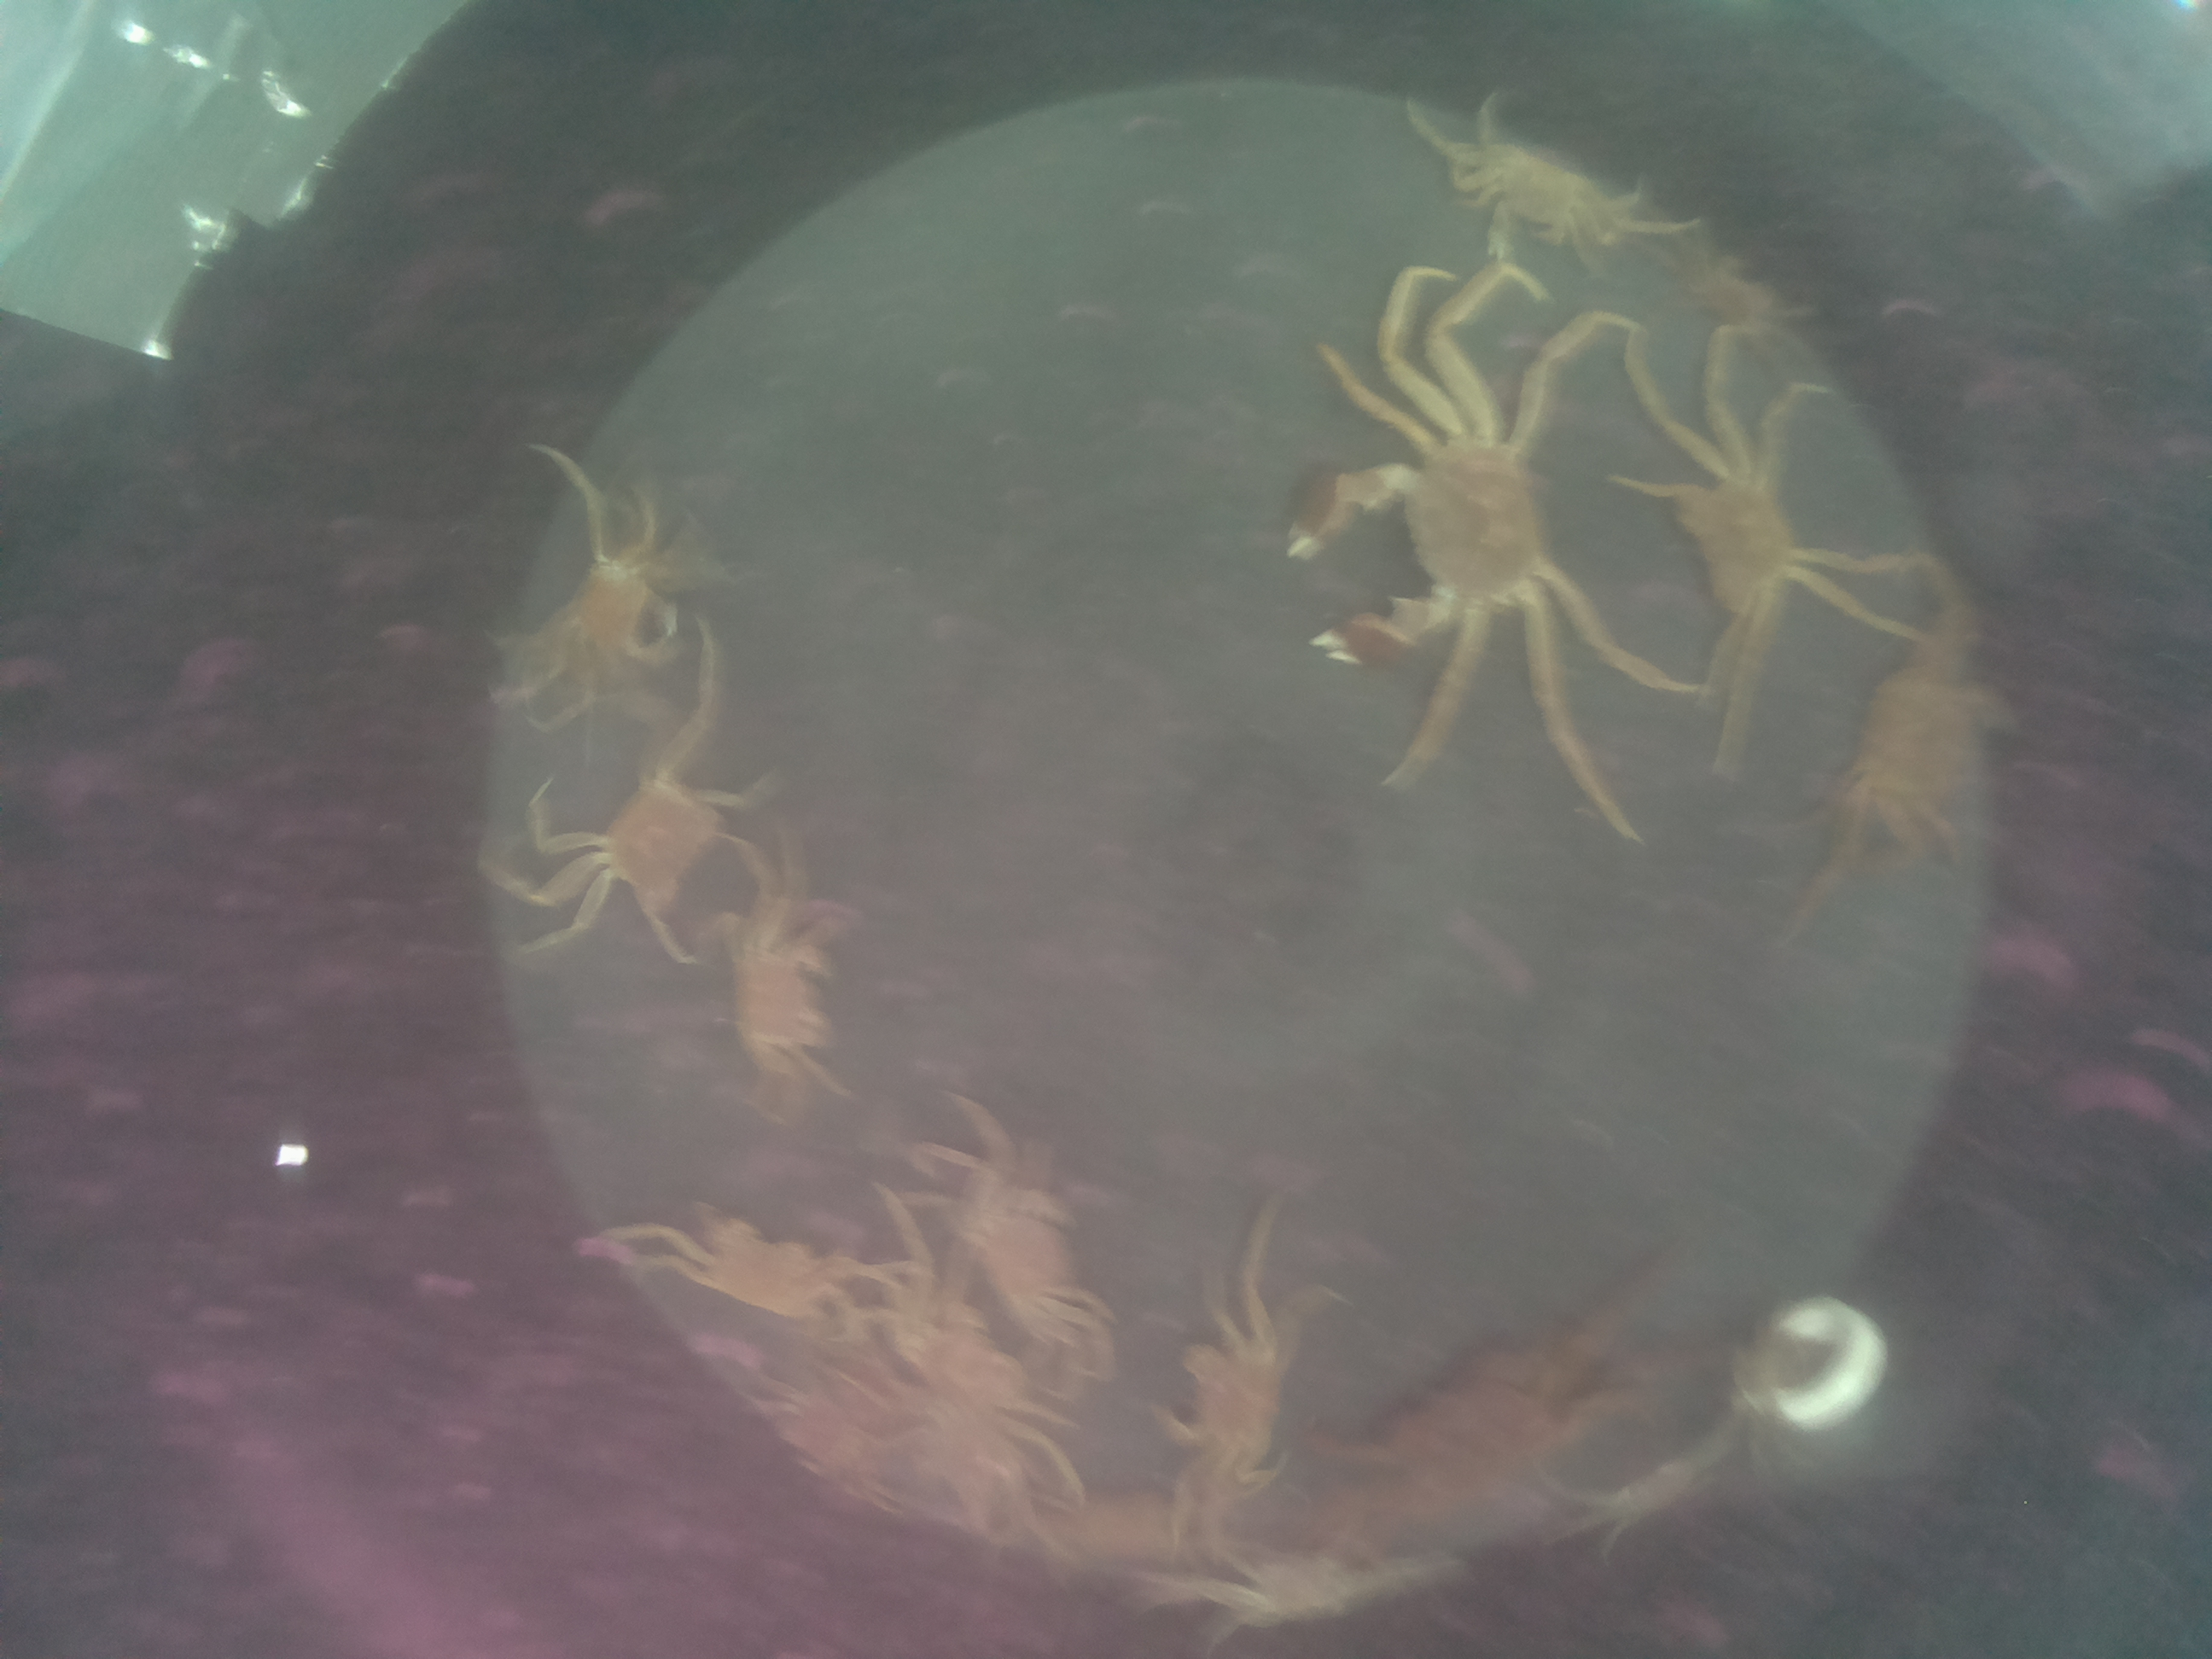Crab: (1273, 392, 1609, 701), (1648, 429, 1831, 680), (596, 728, 761, 964)
